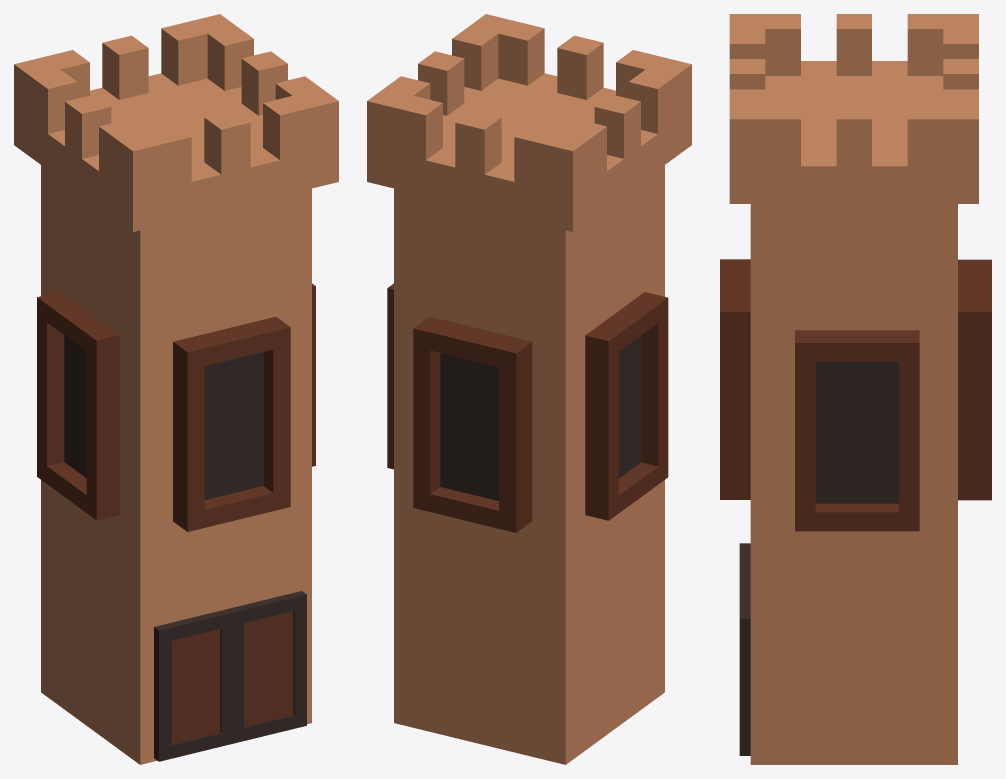
File: level1.fbx
3 renders of one model, left to right at view 1: azimuth 30°, elevation 25°; view 2: azimuth 150°, elevation 25°; view 3: azimuth 270°, elevation 25°, orthographic. The views are drawn at different scales.
Visible parts, largest first — view 1: Cube.001; view 2: Cube.001; view 3: Cube.001.
Part boxes in pixels (<box>): Cube.001: <box>14,14,338,764</box>; Cube.001: <box>367,14,691,764</box>; Cube.001: <box>720,14,991,764</box>.
Size of the model in its own units: 257 by 696 by 262.
